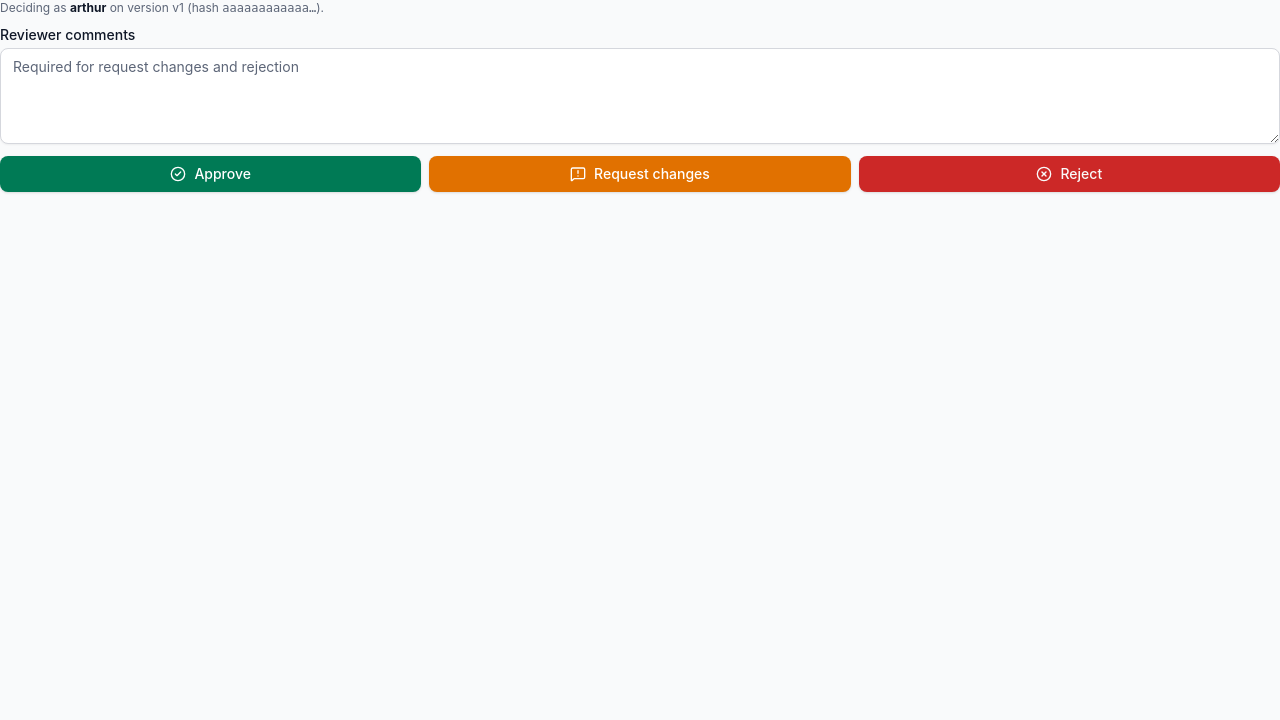
DecisionPanel › refuses to submit when the document changed since it was opened
Click the button "Approve".
click(211, 174)  # box [0,156,421,192]
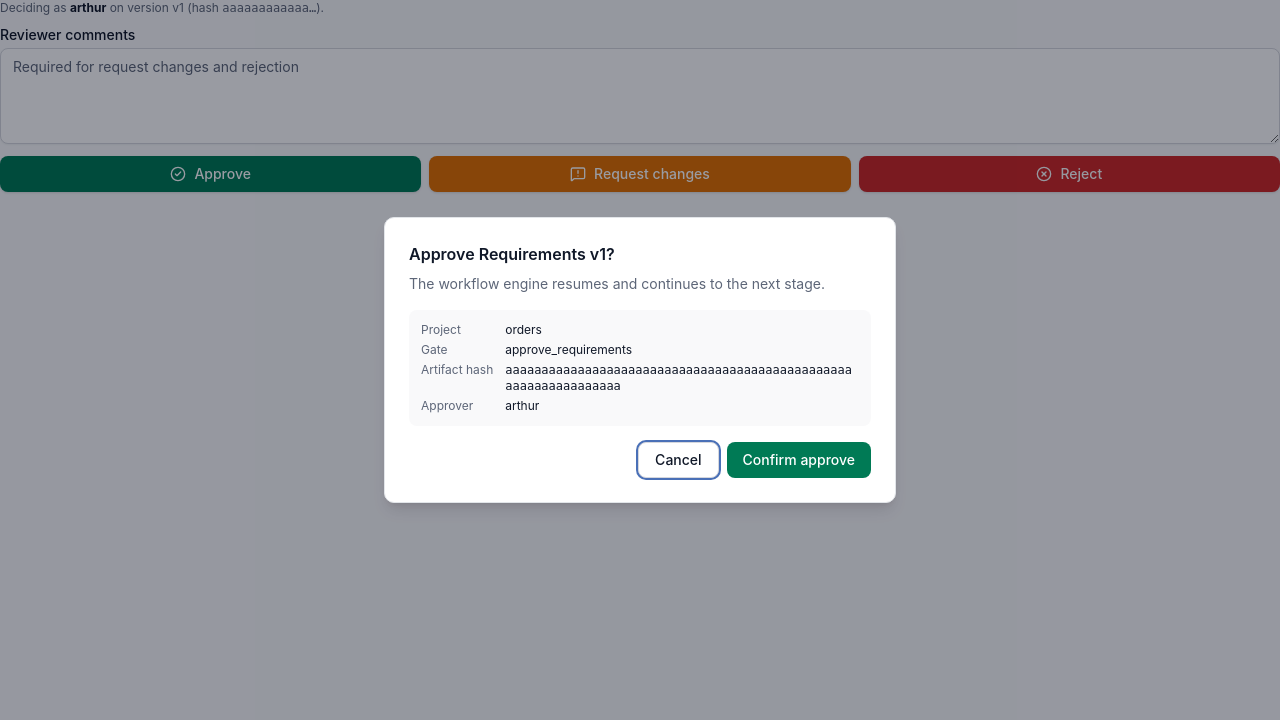
Click the button "Confirm approve".
click(799, 460)  # box [727,442,871,478]
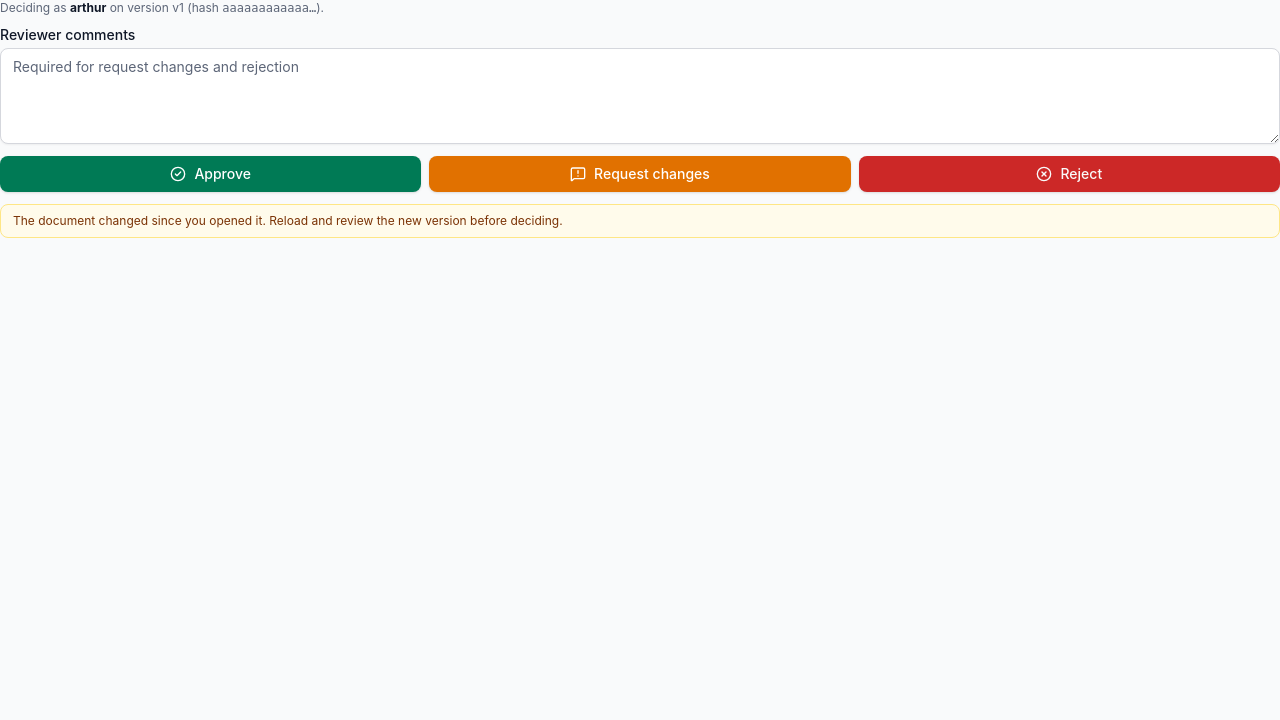
Result: the text "The document changed since you opened it" is shown at [13,213,563,228]
